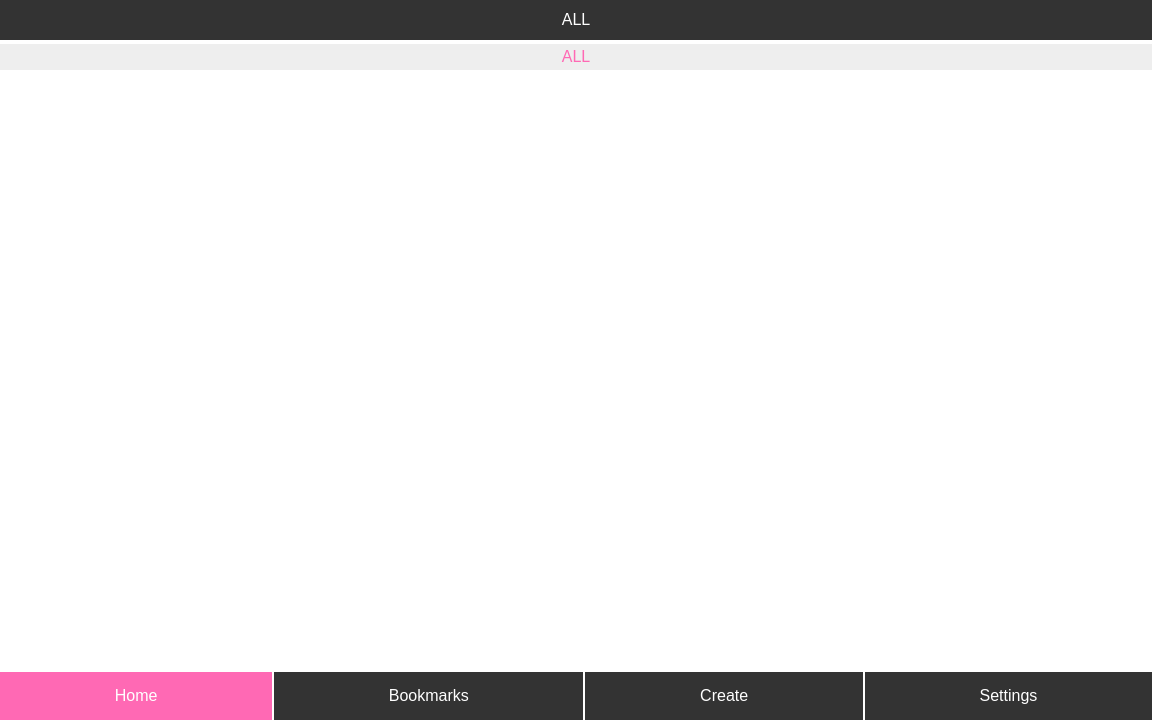
Test: Learning App › Create › shows a card preview with title
The image size is (1152, 720).
Click the link "Create": {"x": 724, "y": 696} [585,672,862,719]
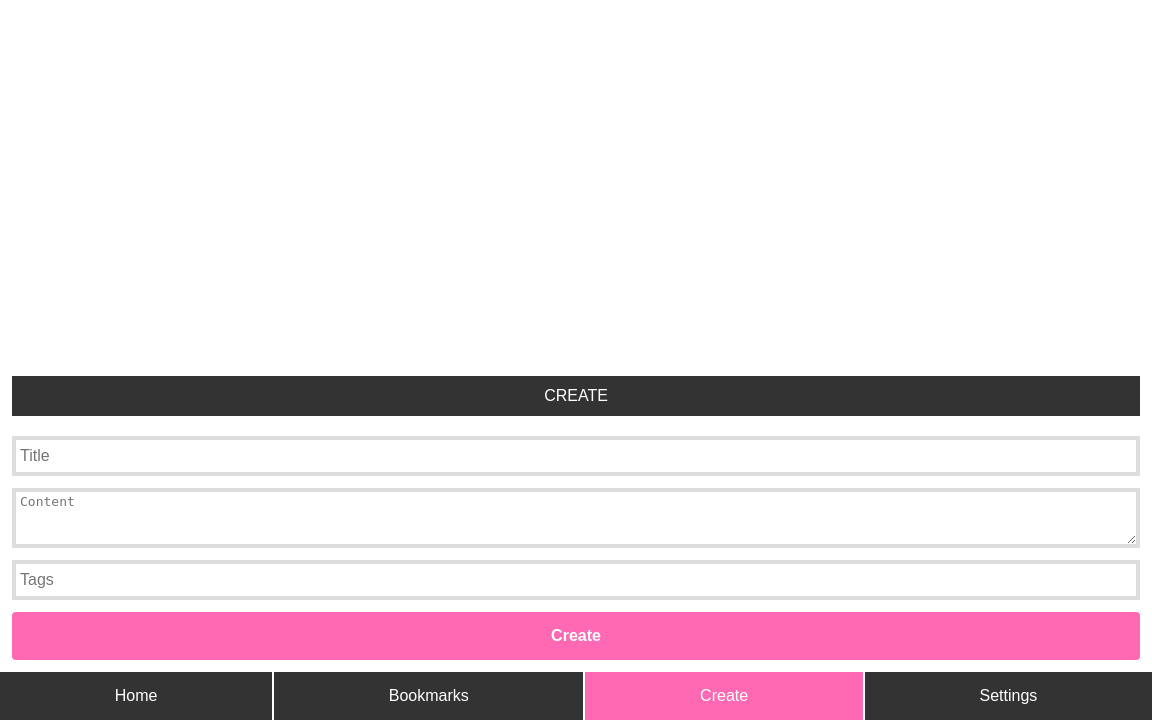
In the field named "title": {"x": 576, "y": 456} [12,436,1140,476], type "This is the title"
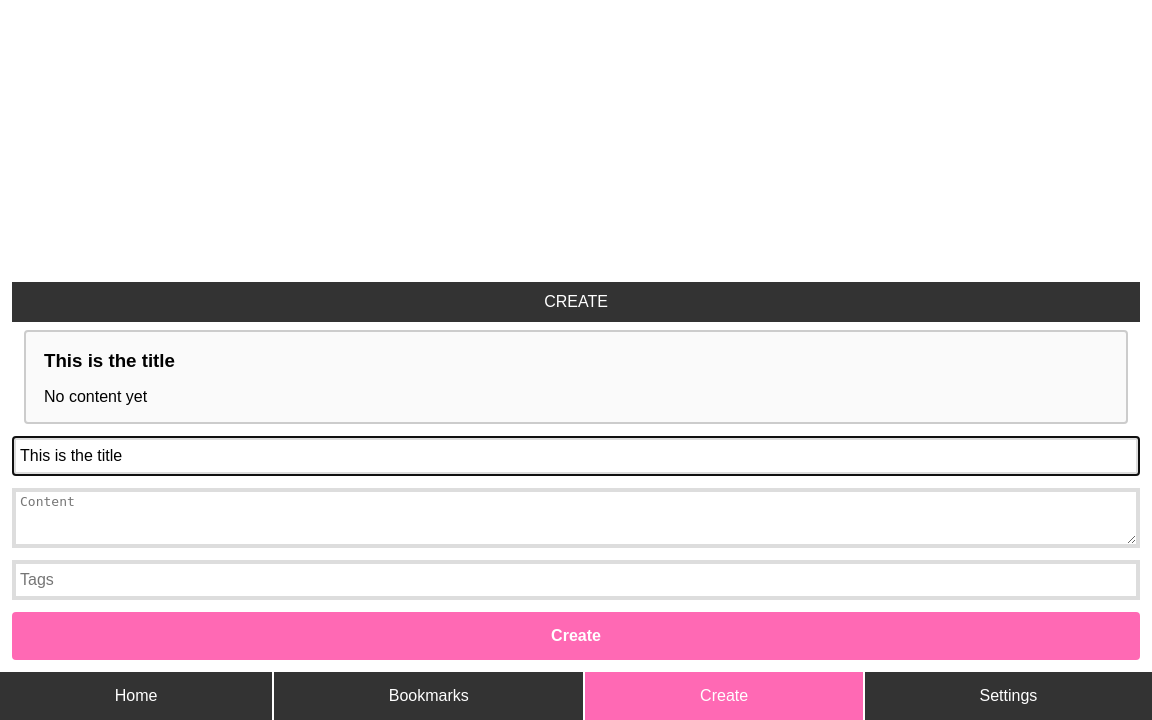
Now the number of headings "This is the title" is 1, box [44,350,175,371]
